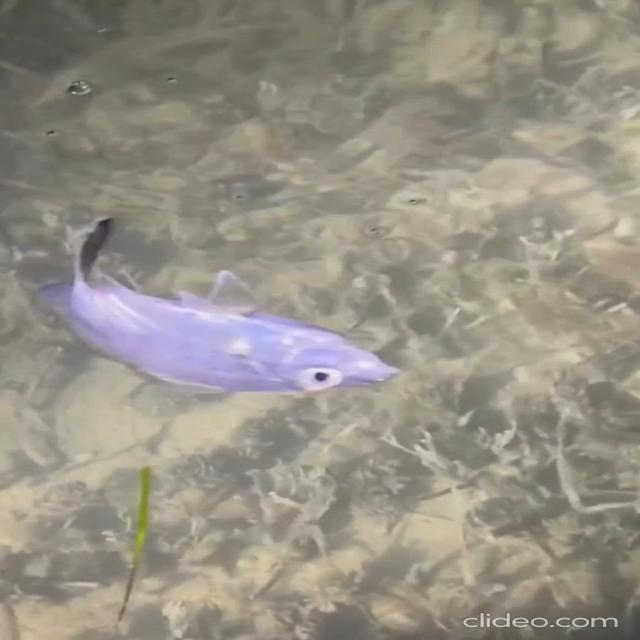fish: (12, 215, 435, 405)
